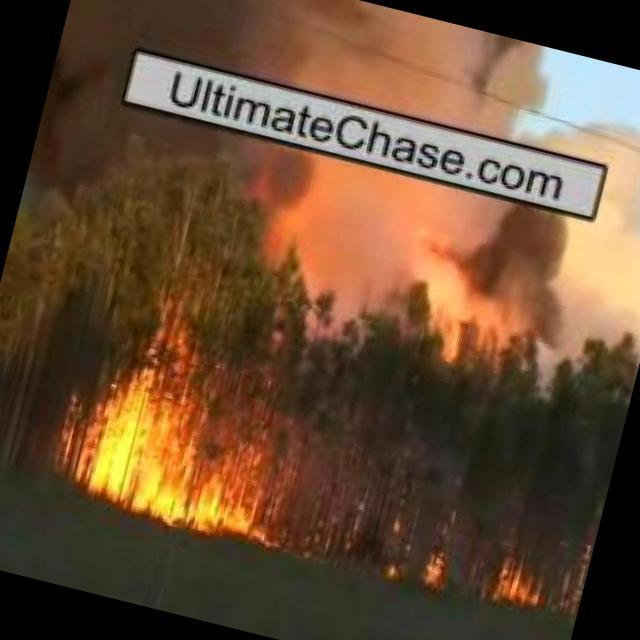Fire: (90, 369, 295, 542), (487, 555, 548, 616), (418, 546, 451, 592)
